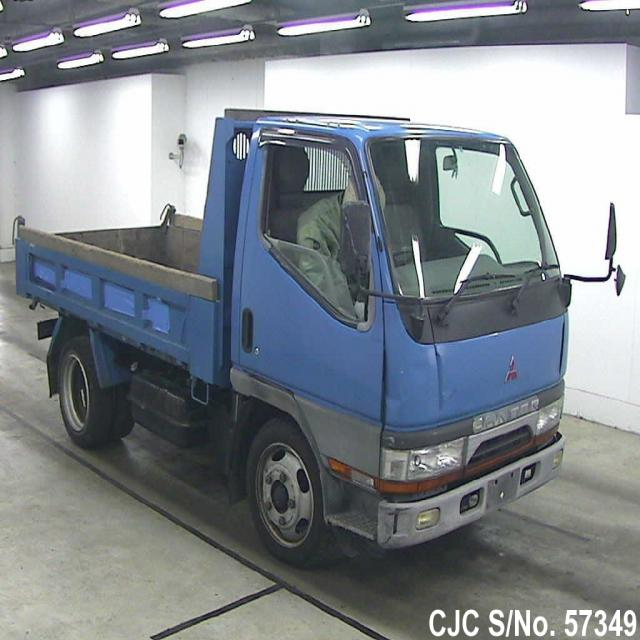truck: (14, 110, 616, 559)
